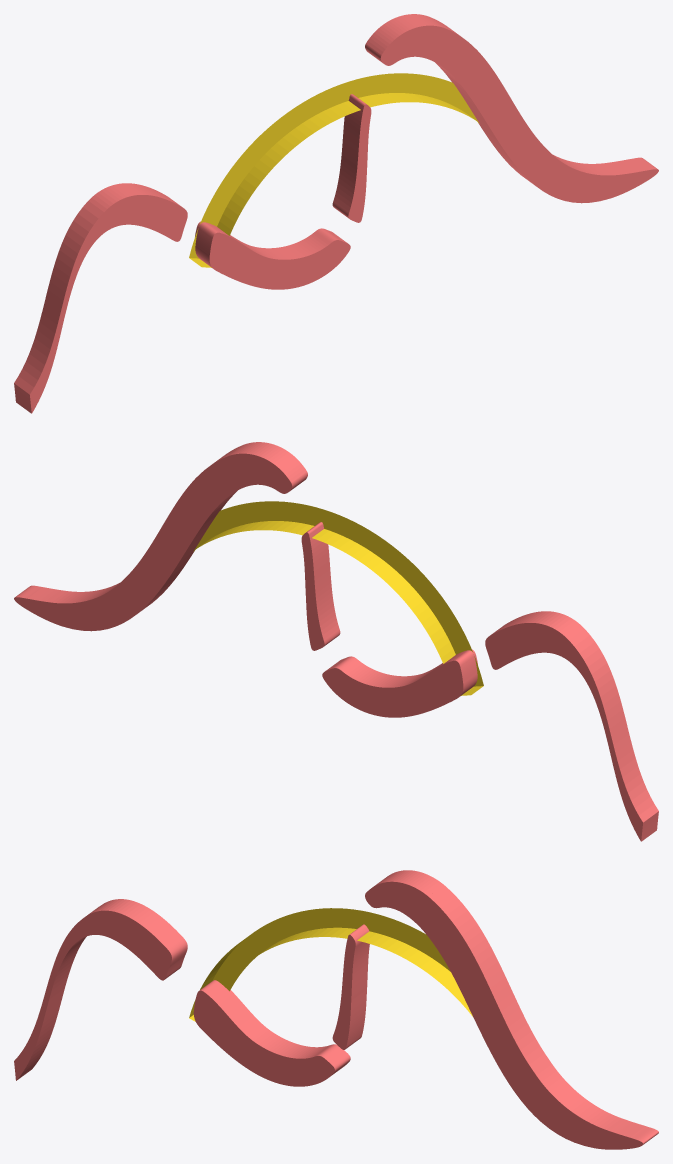
File: add_arch_yellow.glb
3 renders of one model, top to bottom at view 1: azimuth 30°, elevation 25°; view 2: azimuth 150°, elevation 25°; view 3: azimuth 330°, elevation 25°, orthographic.
Parts seen in each view (by area): view 1: shape_03, virtual_arch_yellow, shape_00, shape_01, shape_02; view 2: shape_03, virtual_arch_yellow, shape_00, shape_01, shape_02; view 3: shape_03, virtual_arch_yellow, shape_00, shape_01, shape_02.
Part boxes in pixels (x1,y1,x2,y2): shape_03: [365, 14, 658, 203]; virtual_arch_yellow: [189, 73, 479, 267]; shape_00: [14, 183, 187, 413]; shape_01: [195, 221, 350, 289]; shape_02: [332, 94, 371, 222]; shape_03: [14, 442, 307, 631]; virtual_arch_yellow: [193, 501, 483, 695]; shape_00: [485, 611, 658, 841]; shape_01: [322, 649, 477, 717]; shape_02: [301, 522, 340, 650]; shape_03: [365, 870, 658, 1149]; virtual_arch_yellow: [189, 908, 472, 1021]; shape_00: [14, 899, 187, 1080]; shape_01: [193, 980, 350, 1086]; shape_02: [332, 924, 369, 1049].
Bounding box in the file's own units: 6.9 × 3.06 × 0.3.
